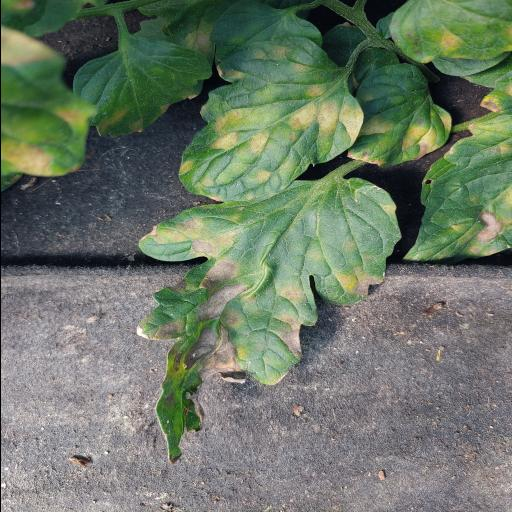Leaf Mold: (133, 184, 399, 461), (176, 39, 365, 202), (70, 17, 212, 137), (346, 62, 456, 166), (385, 0, 512, 65)
